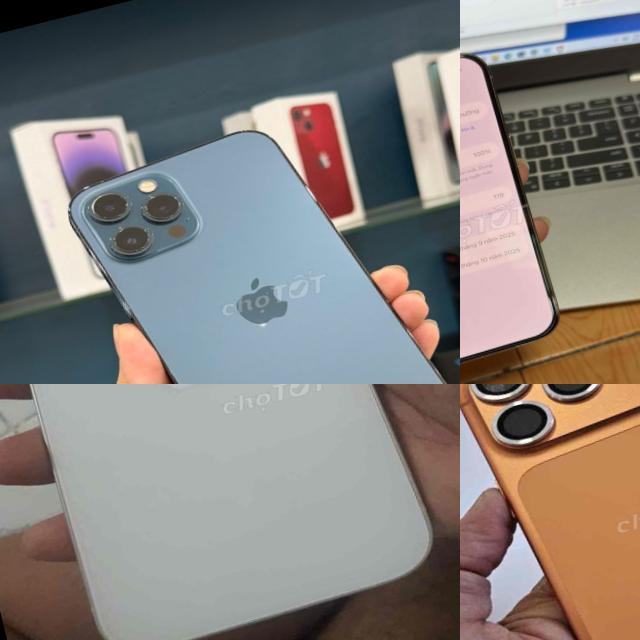gen_12_13: (56, 91, 460, 384)
gen_14: (0, 384, 452, 640)
gen_17: (460, 384, 640, 640), (460, 41, 578, 384)
scratch: (469, 384, 544, 411)
